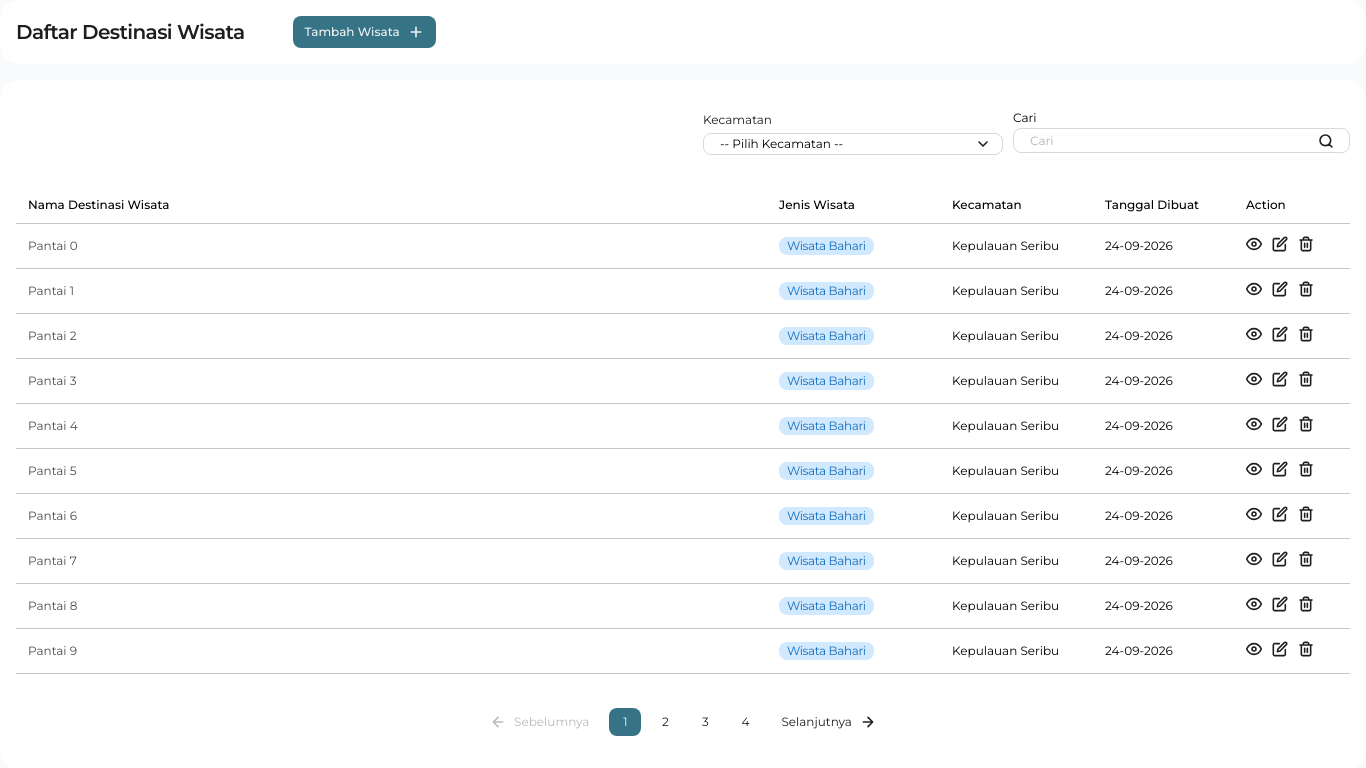
Test: DestinasiWisataView › searches across every API page and sizes the pagination to the matches
The width and height of the screenshot is (1366, 768).
Type "merbabu" into the search field with id "filter-search" at (1182, 140), box [1013,128,1350,153]
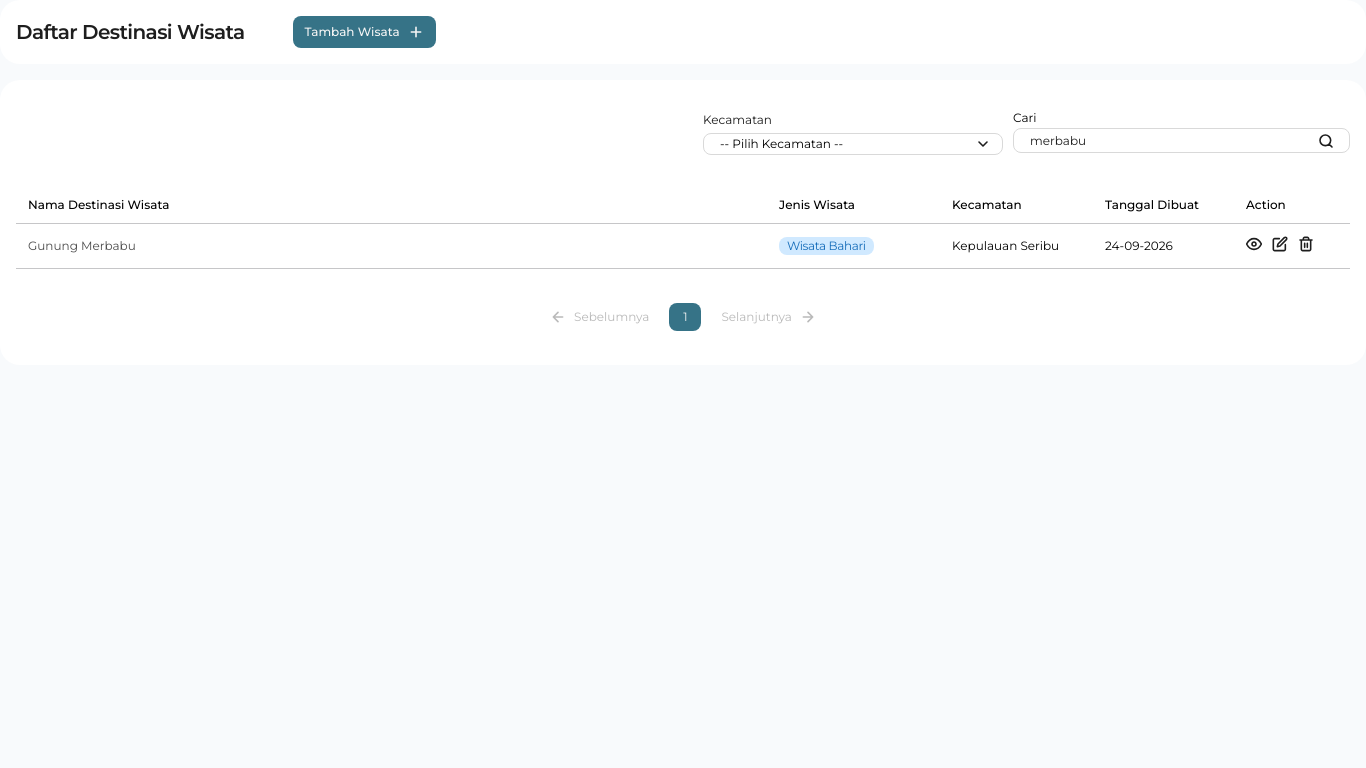
expect the table shows "Gunung Merbabu": met, box [28,238,136,253]
